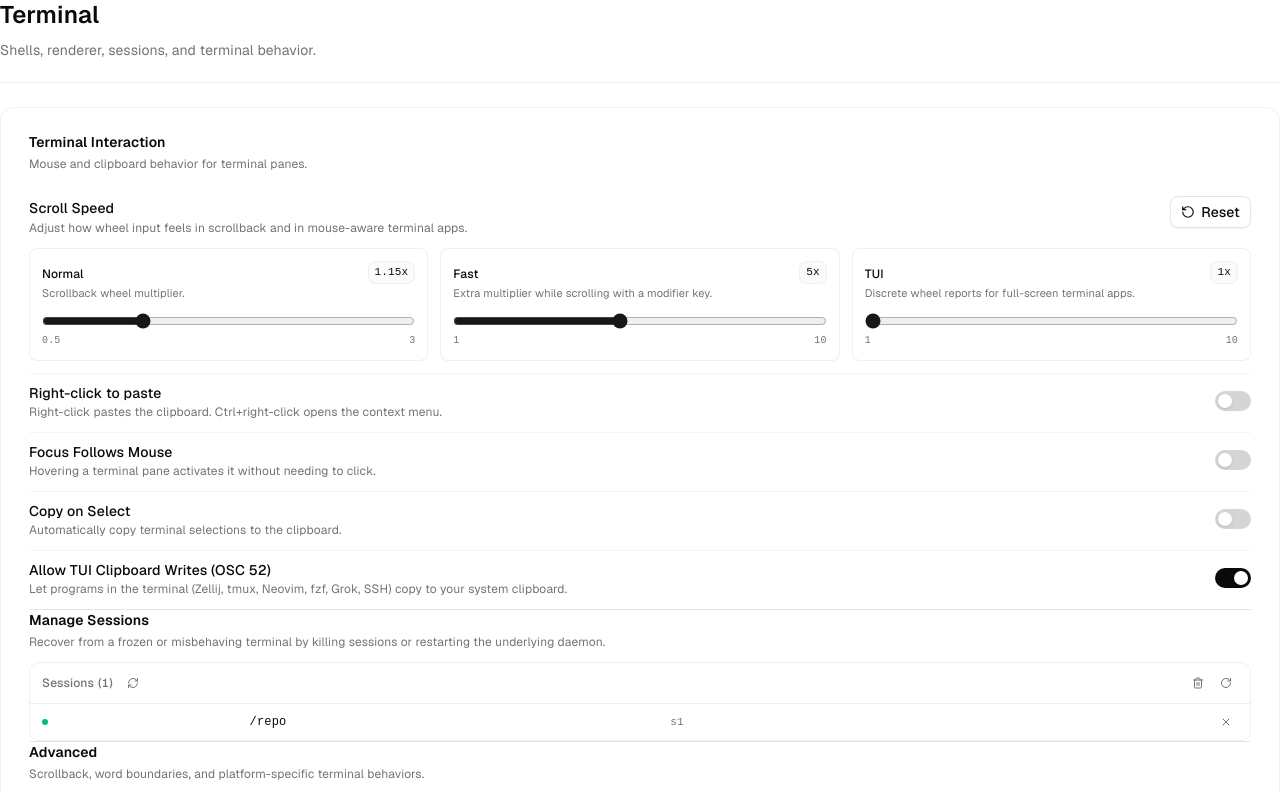
Test: terminal restart daemon (R16-AD2) › a refused restart reports its reason honestly
Click the button named "Restart daemon" at (1226, 683), box [1214, 671, 1238, 695]
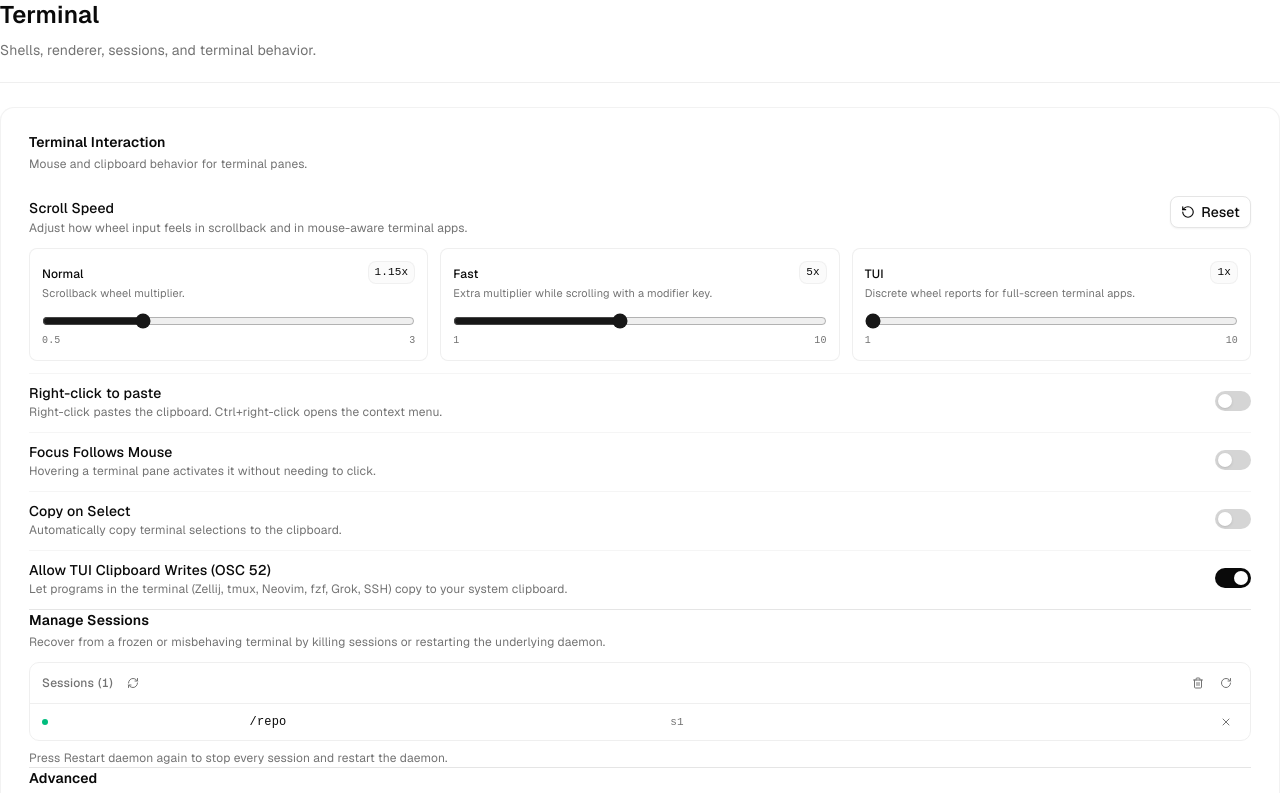
Click the button named "Confirm restart daemon" at (1226, 683), box [1214, 671, 1238, 695]
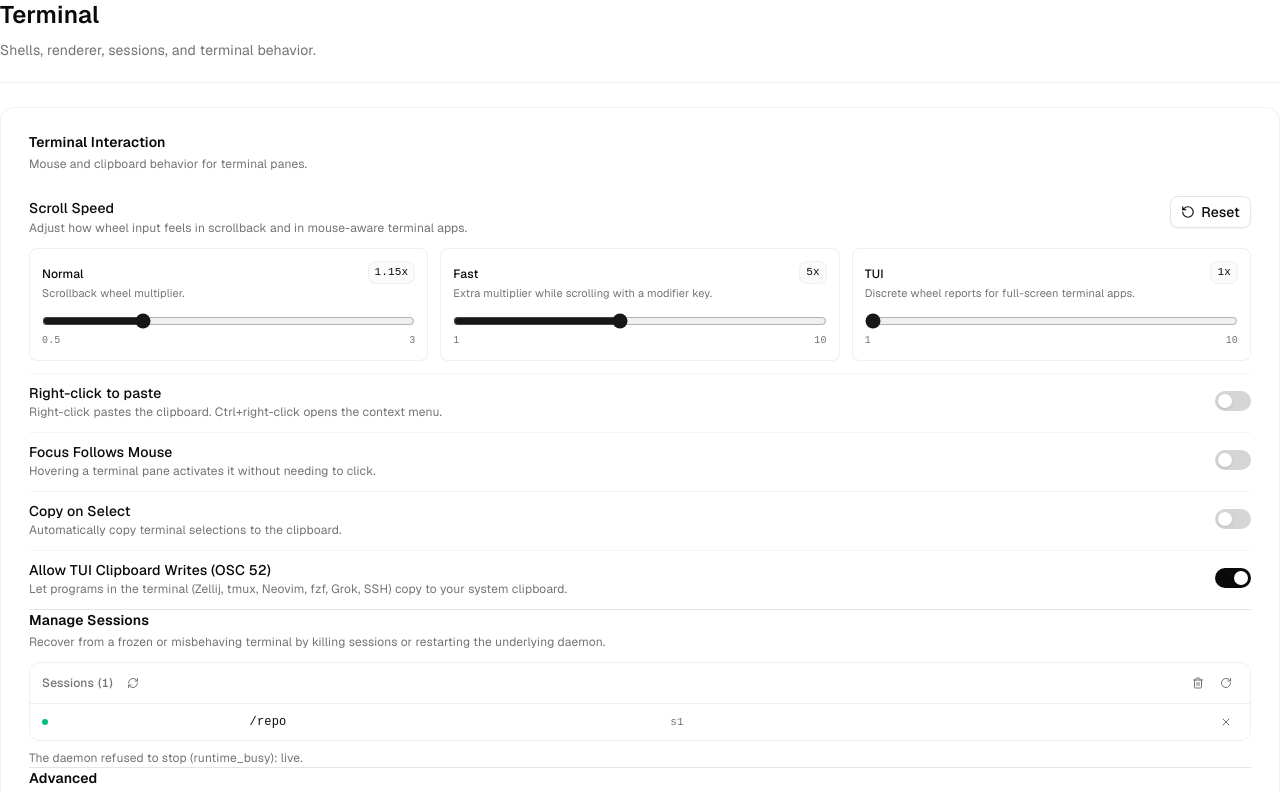
Expected: the text "The daemon refused to stop (runtime_busy): live." is shown, [29, 750, 303, 766]
